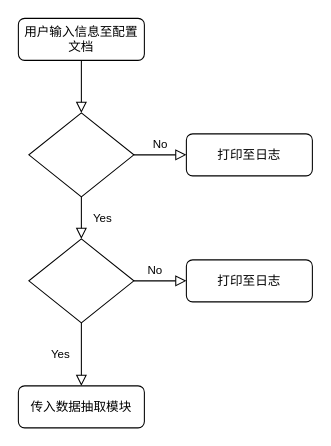
Some shapes in this 331 by 446 pixel diagram are drawn without their labels. The box of each missing label's shape, as (x1, y1, x2, y2) in pixels:
检查读取文档是否成功: (28, 238, 134, 323)
检测填入数据是否符合类型: (28, 112, 134, 197)
